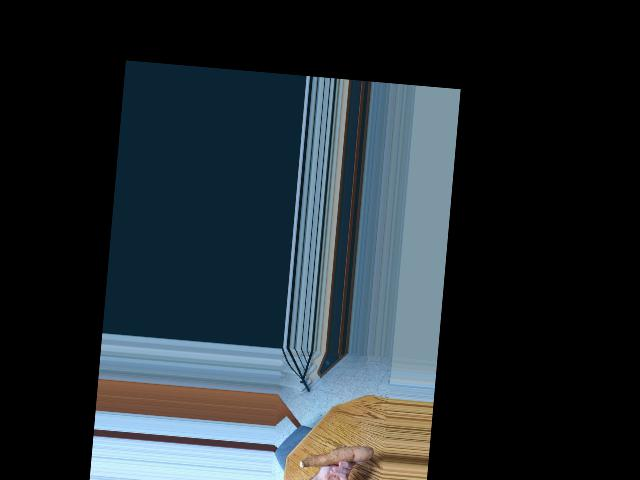sweet_potato: (298, 438, 371, 476)
